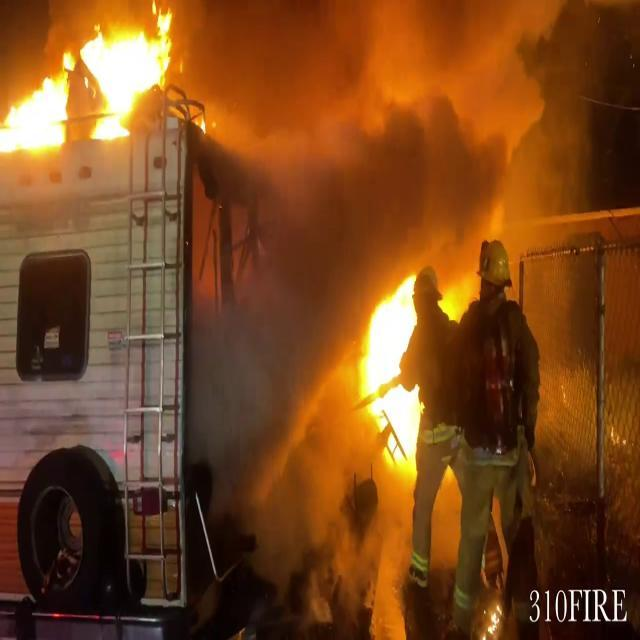Fire: (0, 4, 180, 155), (347, 266, 433, 469)
Smoke: (189, 2, 606, 314)
